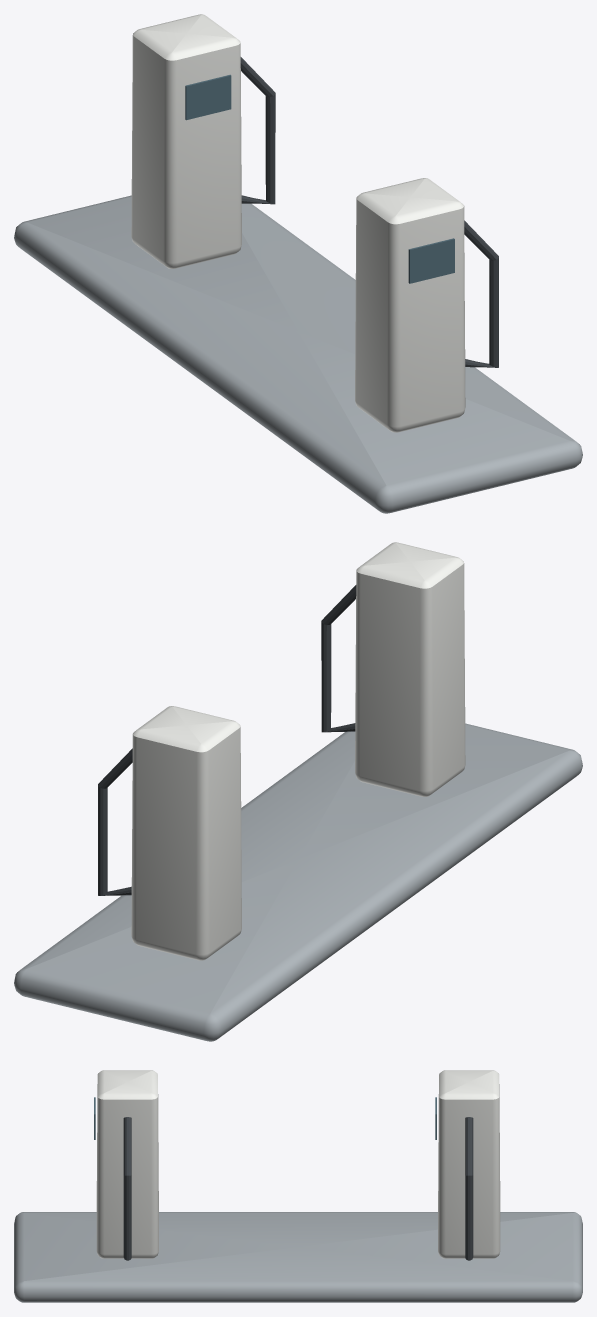
The model's file is long-haul-trucking-and-truck-stop-diesel-pump-island-c905424c__13971.glb.
3 views of the same model, one above another, from view 1: azimuth 30°, elevation 25°; view 2: azimuth 150°, elevation 25°; view 3: azimuth 270°, elevation 25° (orthographic). The views are drawn at different scales.
Visible parts, largest first — view 1: diesel-pump-island; view 2: diesel-pump-island; view 3: diesel-pump-island.
Boxes of the visible parts, bbox=[...] form: diesel-pump-island: bbox=[14, 14, 582, 513]; diesel-pump-island: bbox=[14, 542, 582, 1041]; diesel-pump-island: bbox=[14, 1070, 582, 1302].
Size of the model in its own units: 1.6 by 1.8 by 5.
